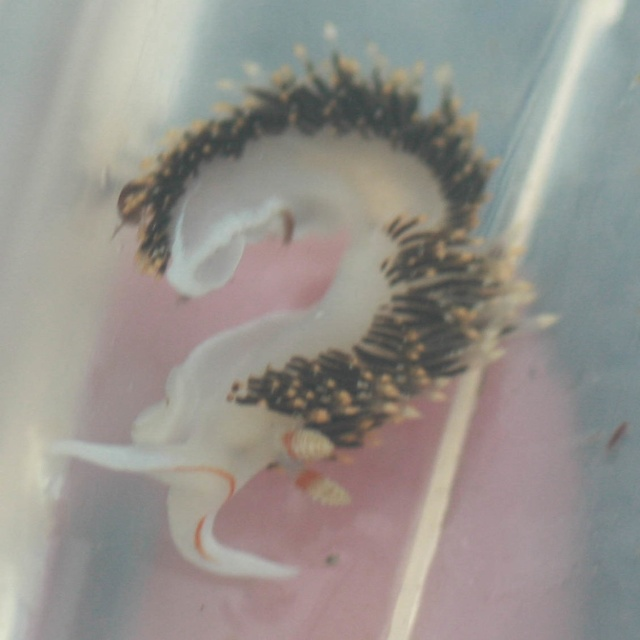Seahorse: (49, 19, 557, 578)
